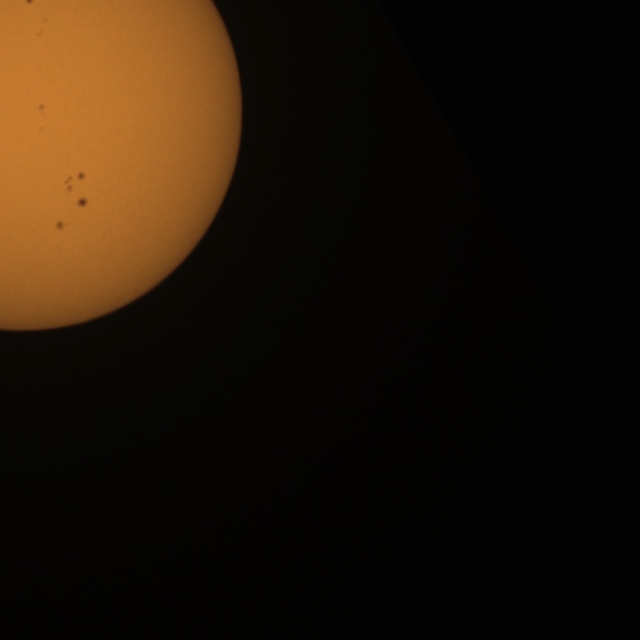sunspot: (64, 170, 89, 203), (64, 171, 86, 187), (36, 17, 48, 39), (64, 174, 77, 194), (76, 195, 89, 209), (55, 219, 67, 232), (36, 25, 45, 38), (77, 171, 86, 181), (37, 103, 45, 113), (25, 0, 34, 6)
